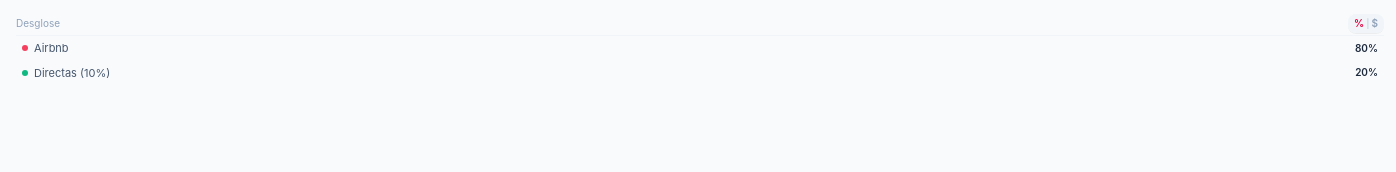
Test case: MiniPieCardChart Component › renders items with percentages by default and toggles to values on click
expect the text "Airbnb" is shown: met, box [34, 40, 69, 56]
expect the text "Directas (10%)" is shown: met, box [34, 64, 110, 81]
Note: Click the toggle button to switch to values mode ($)
Click the button: click(1366, 24) [1348, 14, 1384, 33]
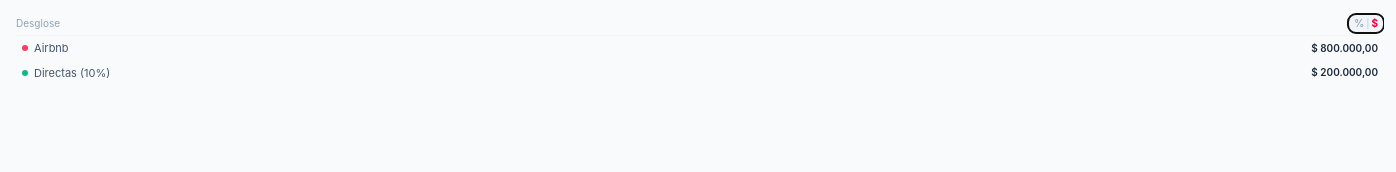
expect the text "80%" is shown: met, box [1311, 41, 1378, 56]
expect the text "20%" is shown: met, box [1311, 65, 1378, 80]
Note: Click again to toggle back to percentages
Click the button: click(1366, 24) [1348, 14, 1384, 33]
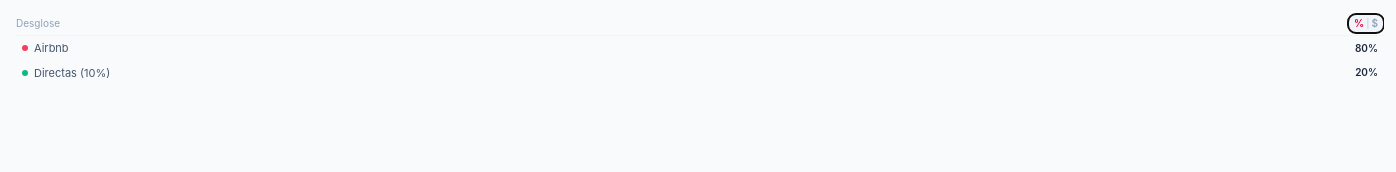
expect the text "80%" is shown: met, box [1355, 41, 1378, 56]
expect the text "20%" is shown: met, box [1355, 65, 1378, 80]
